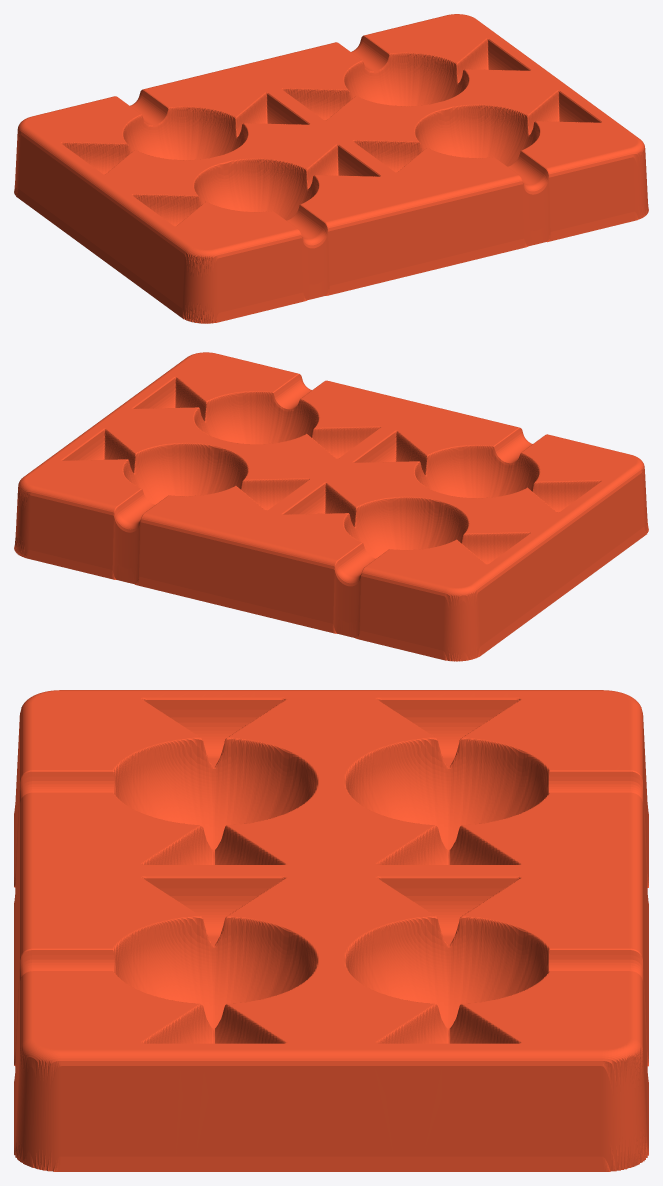
File: mold.glb
The picture shows the model from 3 angles, top to bottom: view 1: azimuth 30°, elevation 25°; view 2: azimuth 150°, elevation 25°; view 3: azimuth 270°, elevation 25°; orthographic projection. The views are drawn at different scales.
Visible parts, largest first — view 1: geometry_0; view 2: geometry_0; view 3: geometry_0.
Part boxes in pixels (box(x1,y1,x2,y2)): geometry_0: box(14, 14, 648, 323); geometry_0: box(14, 352, 648, 661); geometry_0: box(14, 690, 648, 1171).
Size of the model in its own units: 0.1726 by 0.0245 by 0.1237.
